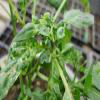Tomato leaf mosaic virus: (1, 36, 40, 96), (56, 43, 77, 66), (47, 71, 63, 99)
